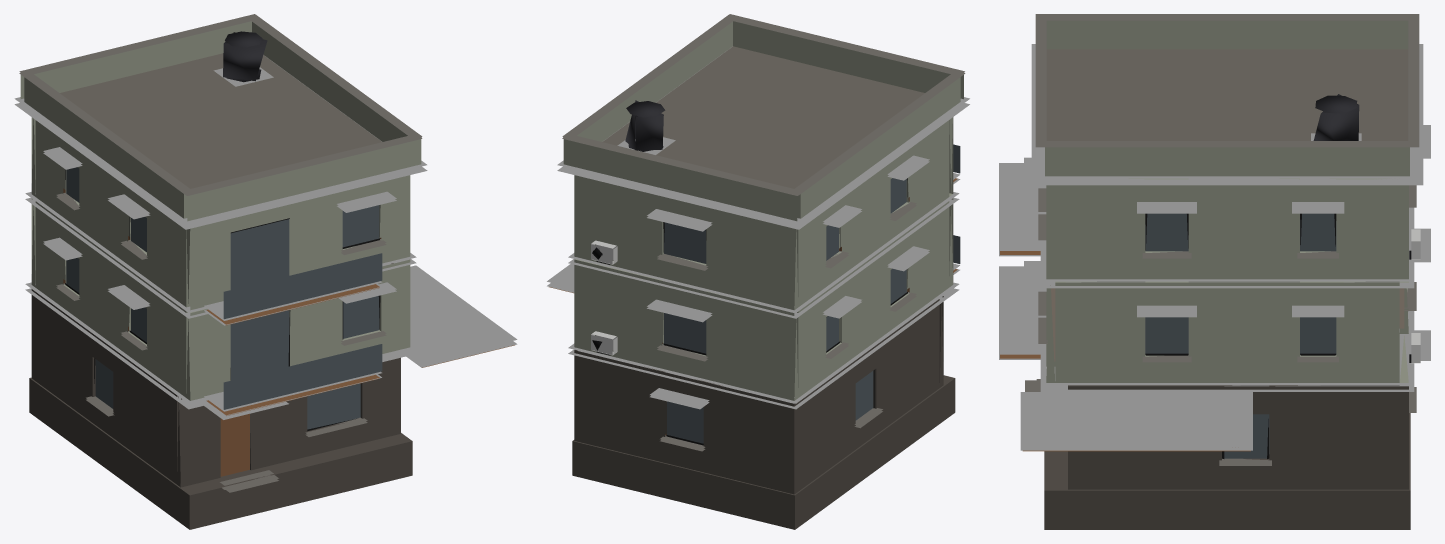
Rendered from city_house_8x10_3_far.glb.
3 renders of one model, left to right at view 1: azimuth 30°, elevation 25°; view 2: azimuth 150°, elevation 25°; view 3: azimuth 270°, elevation 25°, orthographic. The views are drawn at different scales.
Parts seen in each view (by area): view 1: city_house_8x10_3; view 2: city_house_8x10_3; view 3: city_house_8x10_3.
Boxes of the visible parts, box(x1,y1,x2,y2) form: city_house_8x10_3: box(14, 14, 517, 529); city_house_8x10_3: box(547, 14, 969, 529); city_house_8x10_3: box(999, 14, 1430, 529).
Size of the model in its own units: 12.11 by 12.25 by 11.91.
